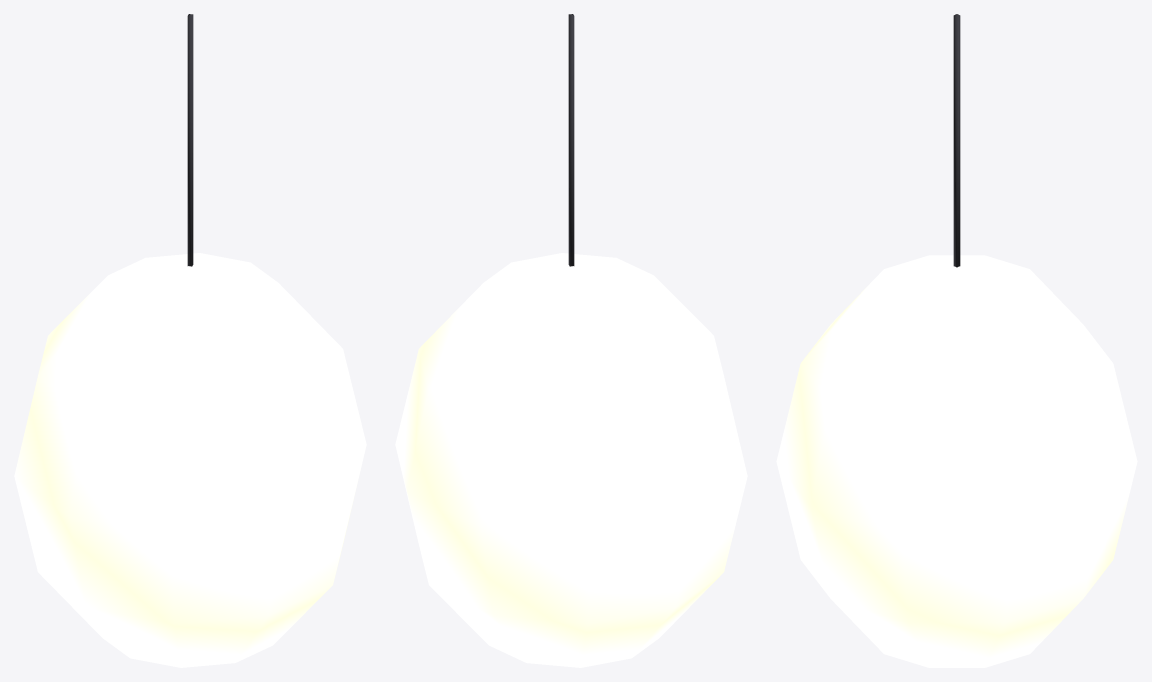
Rendered from lantern_paper.glb.
3 renders of one model, left to right at view 1: azimuth 30°, elevation 25°; view 2: azimuth 150°, elevation 25°; view 3: azimuth 270°, elevation 25°, orthographic.
Parts seen in each view (by area): view 1: lantern_paper; view 2: lantern_paper; view 3: lantern_paper.
Boxes of the visible parts, x1,y1,x2,y2 form: lantern_paper: [14, 14, 366, 667]; lantern_paper: [395, 14, 747, 667]; lantern_paper: [776, 14, 1137, 667].
Size of the model in its own units: 0.4185 by 0.864 by 0.44.
